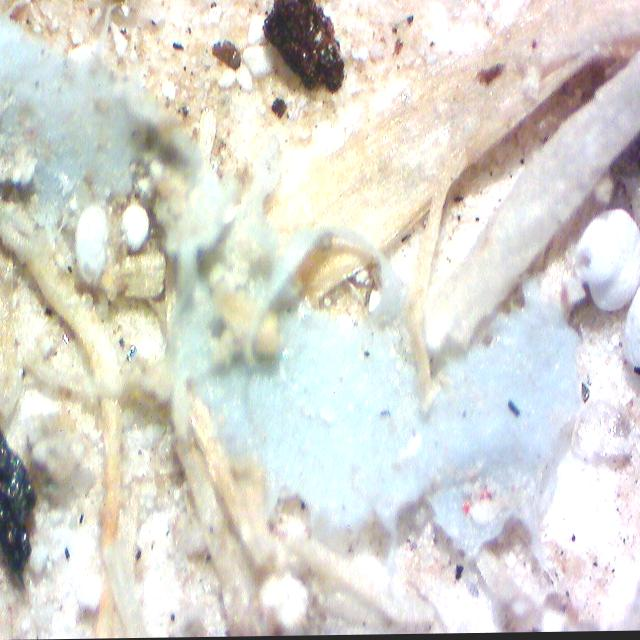microplastic: (0, 13, 582, 578)
